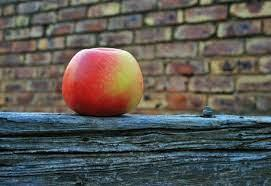Apple: (61, 48, 143, 116)
